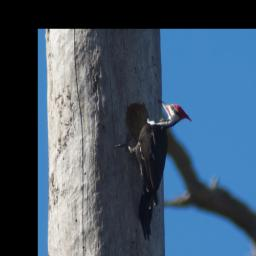Woodpecker: (114, 99, 192, 241)
